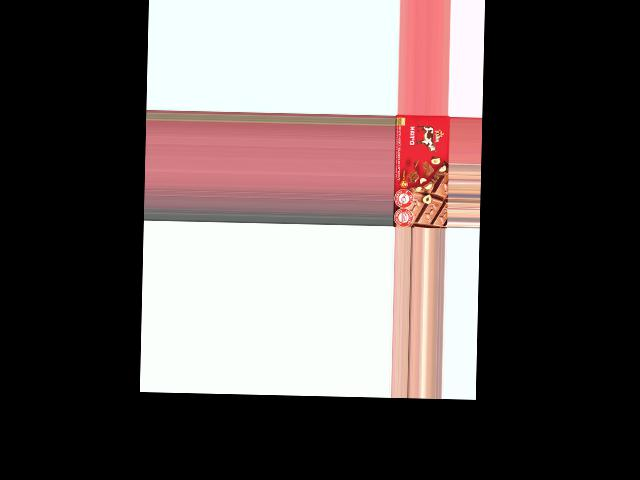chocolate: (394, 114, 449, 227)
